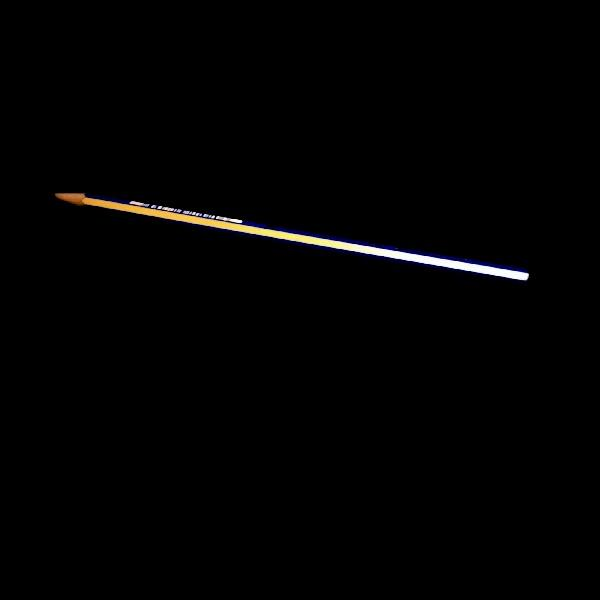pencil: (49, 178, 535, 288)
